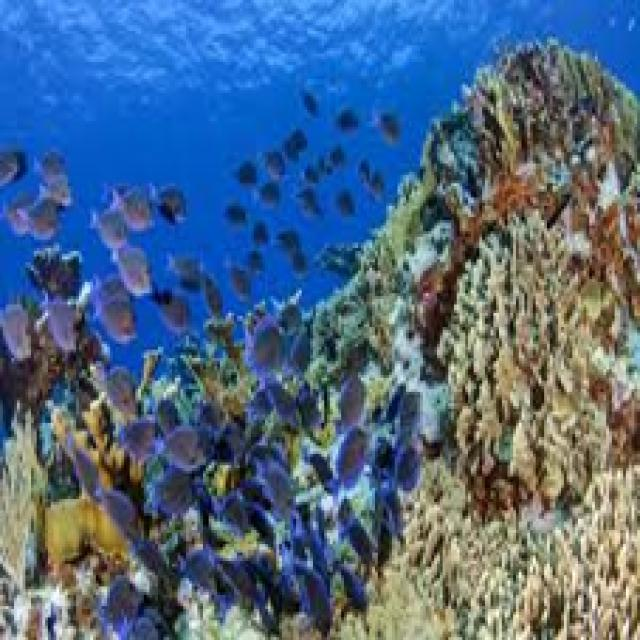Healthy: (415, 43, 638, 523), (393, 461, 638, 638)
